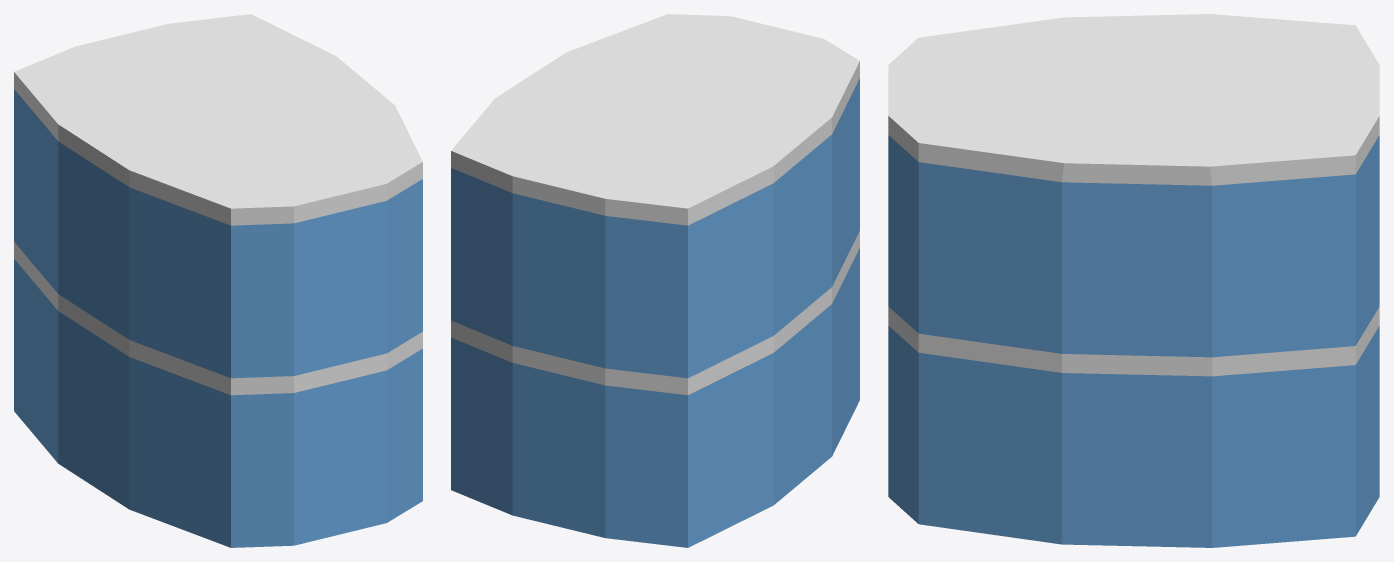
Rendered from building_1x1_10_f.glb.
3 renders of one model, left to right at view 1: azimuth 30°, elevation 25°; view 2: azimuth 150°, elevation 25°; view 3: azimuth 270°, elevation 25°, orthographic. The views are drawn at different scales.
Parts seen in each view (by area): view 1: Cube.001; view 2: Cube.001; view 3: Cube.001.
Part boxes in pixels (x1,y1,x2,y2): Cube.001: (14,14,422,547); Cube.001: (451,14,859,547); Cube.001: (888,14,1379,547).
Size of the model in its own units: 1.37 by 1.6 by 1.87.
